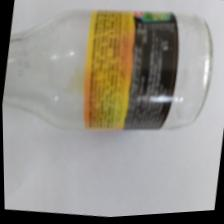glass: (3, 0, 223, 214)
